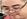without_mask: (1, 2, 27, 19)
